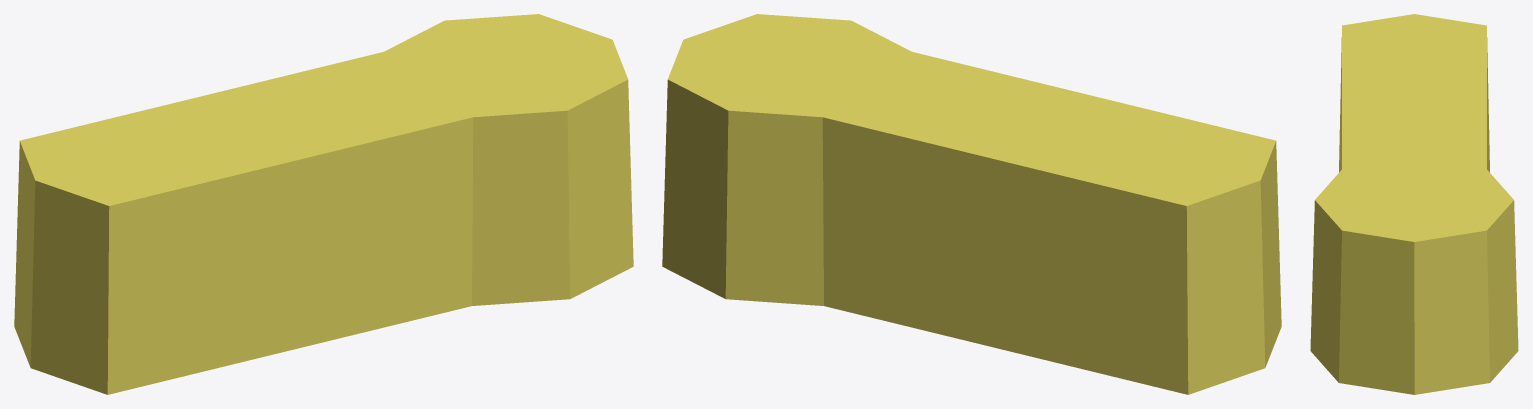
The model's file is Shaft3.glb.
3 views of the same model, side by side, from view 1: azimuth 30°, elevation 25°; view 2: azimuth 150°, elevation 25°; view 3: azimuth 270°, elevation 25° (orthographic). The views are drawn at different scales.
Visible parts, largest first — view 1: Shaft3.001; view 2: Shaft3.001; view 3: Shaft3.001.
Part boxes in pixels (<box>): Shaft3.001: <box>14,14,633,394</box>; Shaft3.001: <box>662,14,1281,394</box>; Shaft3.001: <box>1310,14,1518,394</box>.
Size of the model in its own units: 1.61 by 0.4896 by 0.6111.
